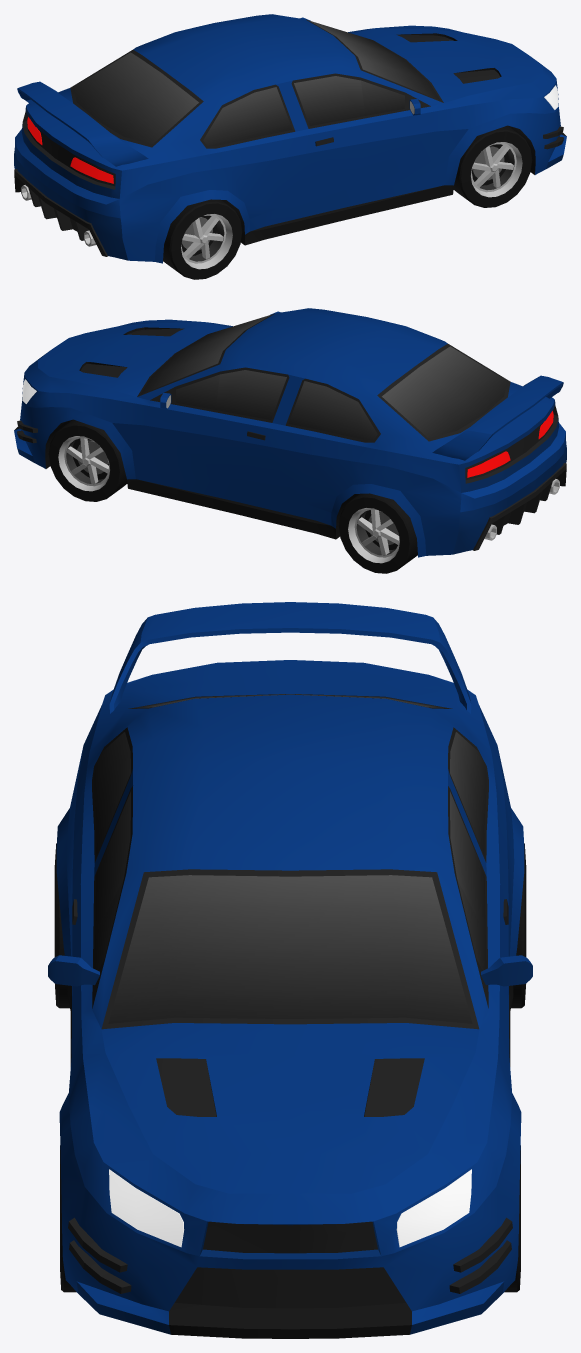
The model's file is Car_147.glb.
The picture shows the model from 3 angles, top to bottom: view 1: azimuth 30°, elevation 25°; view 2: azimuth 150°, elevation 25°; view 3: azimuth 270°, elevation 25°; orthographic projection. The views are drawn at different scales.
Parts seen in each view (by area): view 1: Car_147, wheel_3_Car_147_Wheel_2R, wheel_1_Car_147_Wheel_1R; view 2: Car_147, wheel_2_Car_147_Wheel_2L, wheel_0_Car_147_Wheel_1L; view 3: Car_147, wheel_2_Car_147_Wheel_2L, wheel_3_Car_147_Wheel_2R.
Boxes of the visible parts, x1,y1,x2,y2 form: Car_147: [14, 14, 566, 263]; wheel_3_Car_147_Wheel_2R: [163, 199, 242, 279]; wheel_1_Car_147_Wheel_1R: [453, 125, 532, 207]; Car_147: [14, 308, 566, 557]; wheel_2_Car_147_Wheel_2L: [338, 493, 417, 573]; wheel_0_Car_147_Wheel_1L: [48, 419, 127, 501]; Car_147: [48, 602, 532, 1338]; wheel_2_Car_147_Wheel_2L: [511, 843, 526, 1008]; wheel_3_Car_147_Wheel_2R: [54, 843, 69, 1008].
Bounding box in the file's own units: 4.76 × 1.57 × 2.02.
Materials: 2 (2 with a texture image).
